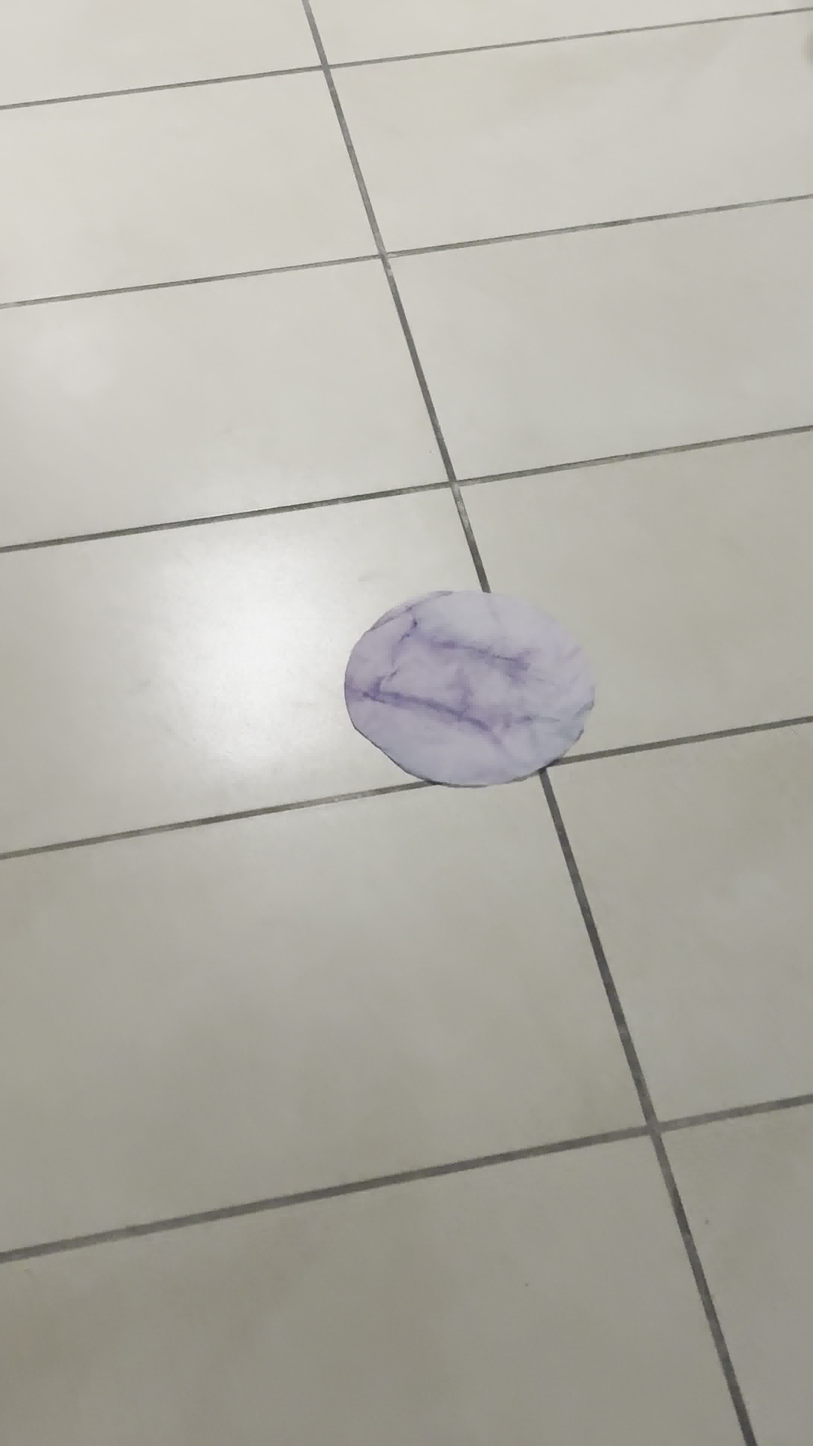Target: (341, 589, 599, 790)
